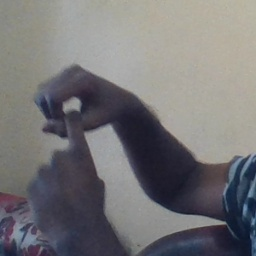Q: (23, 59, 123, 218)
